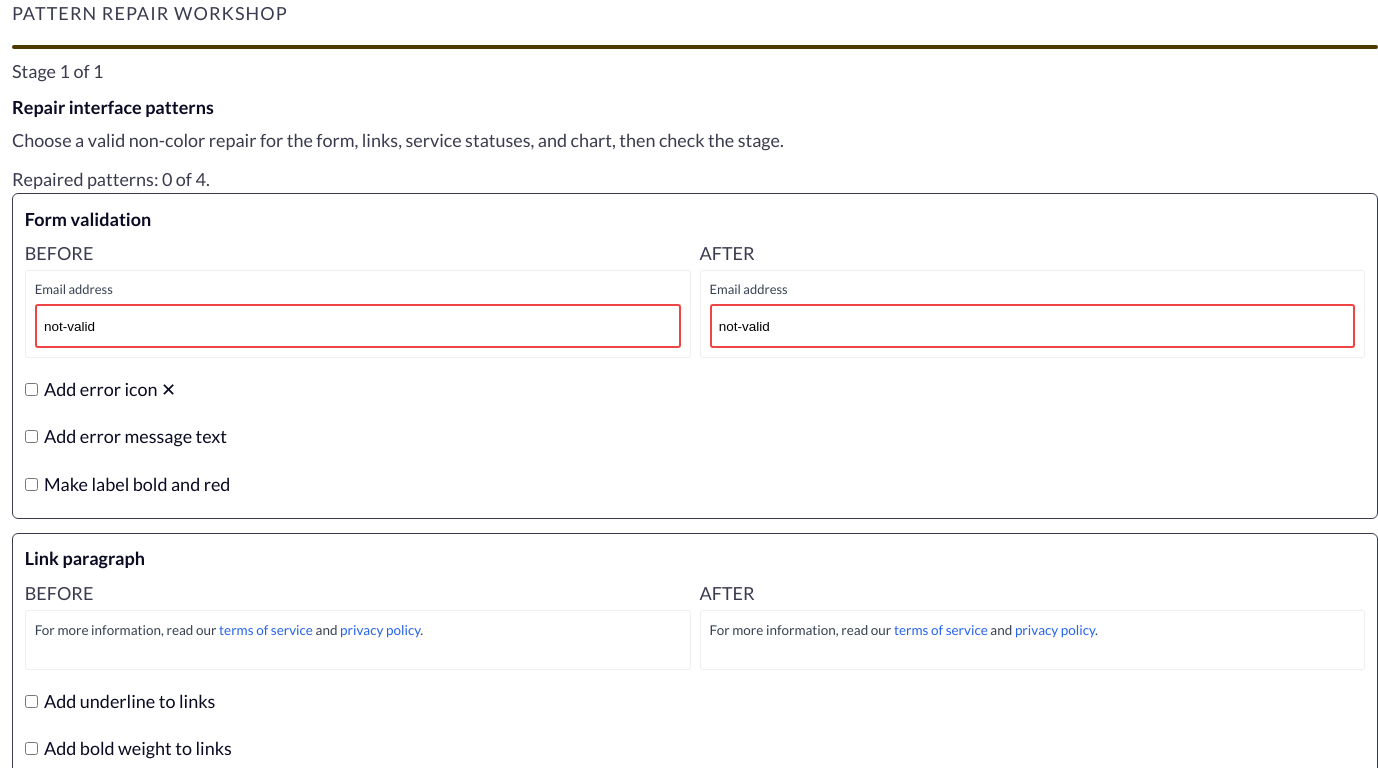
Scenario: PatternRepairTool › repairs form validation with error message text alone
Click the checkbox labelled "Add error message text" at (31, 437), box [25,430,38,444]
(page scrolled)
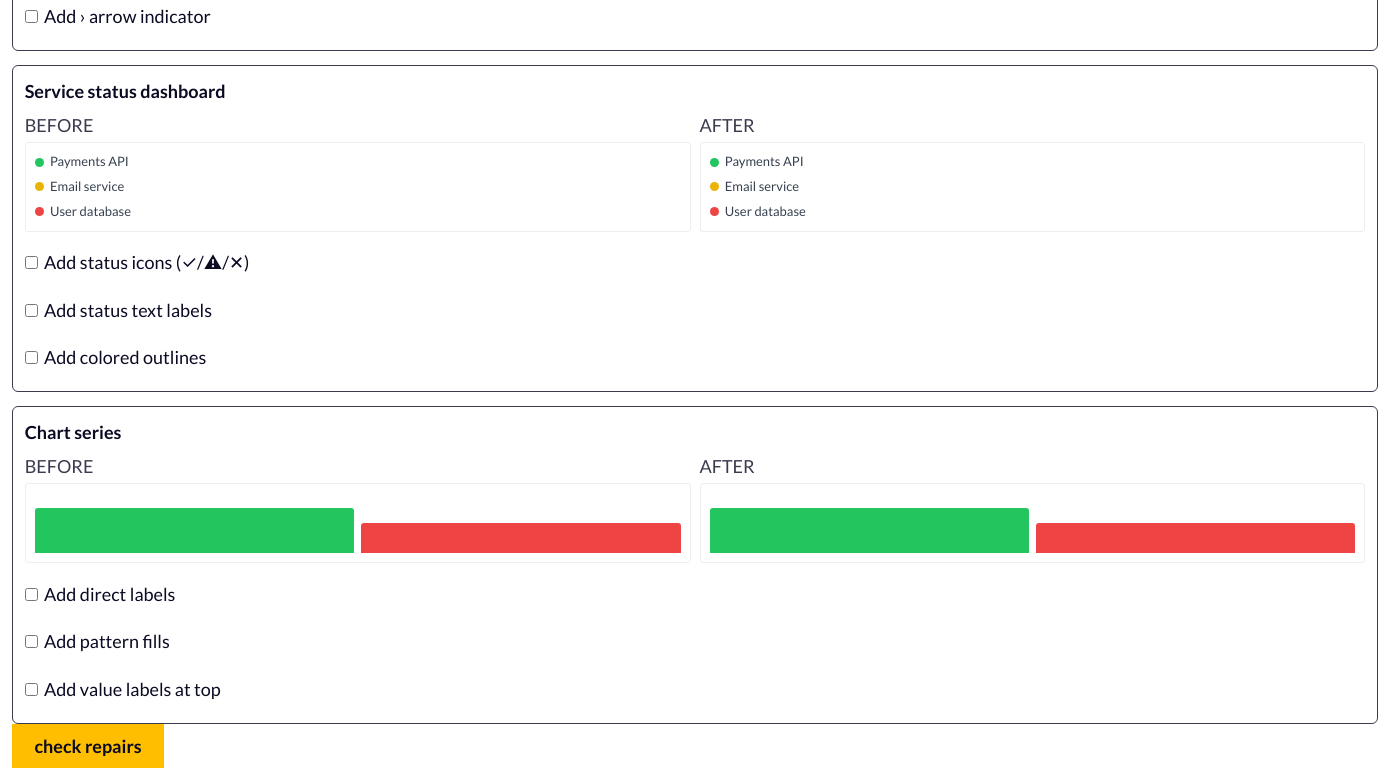
Click the button "check repairs" at (88, 746), box [12,724,164,767]
(page scrolled)
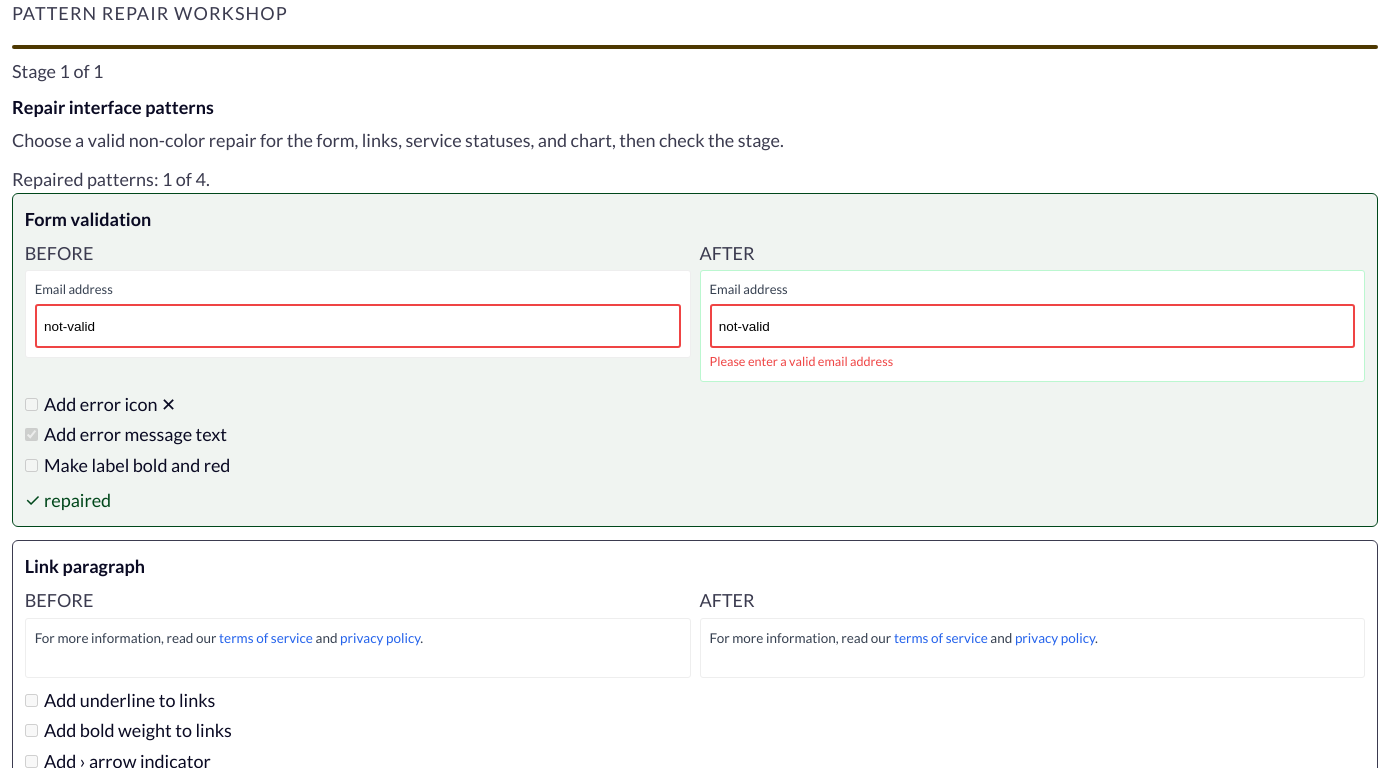
Now the text "Repaired patterns: 1 of 4." is shown, box [12,168,210,190]
